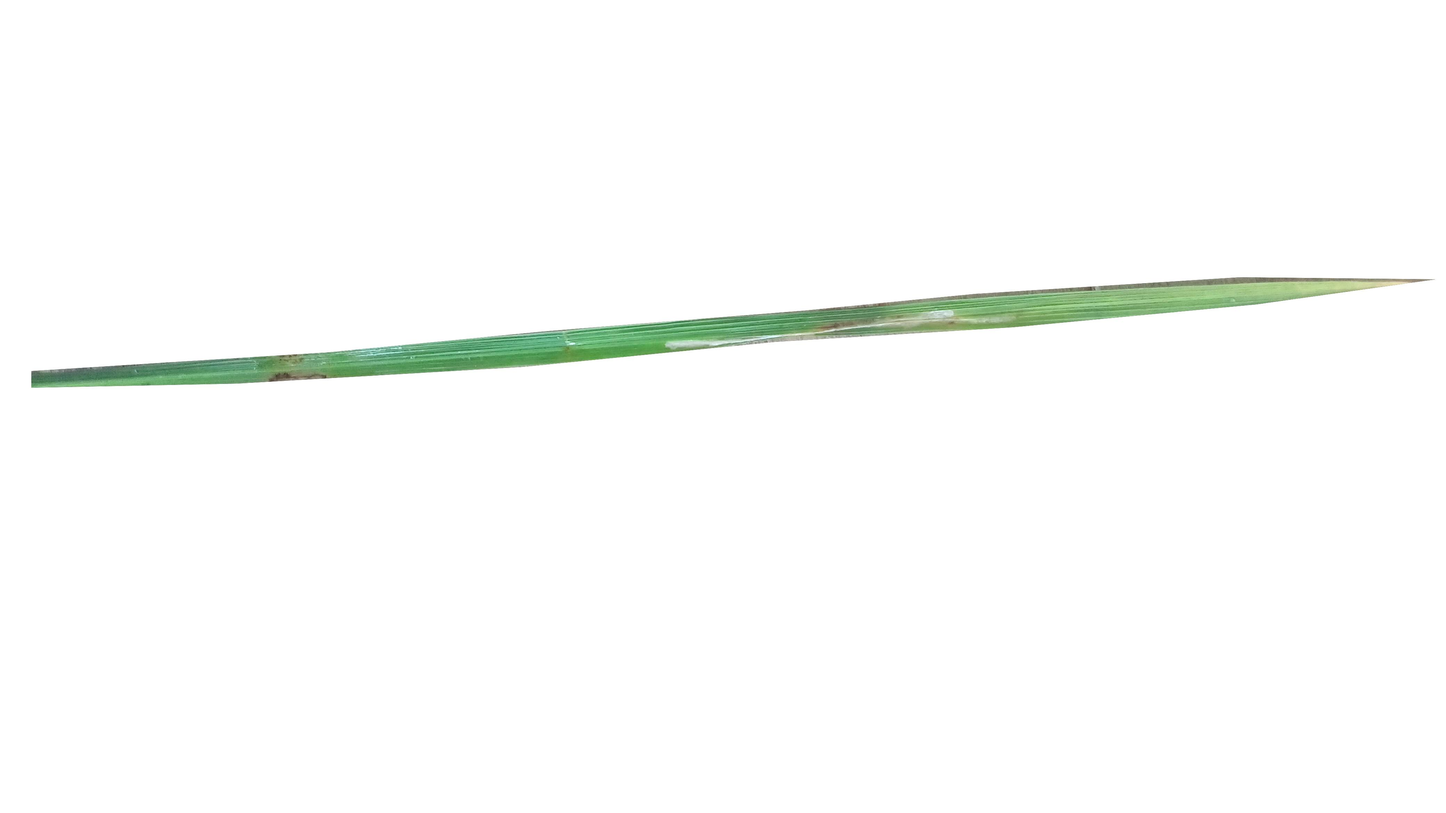Blight: (817, 313, 993, 331)
Rice blast: (267, 345, 336, 388)
